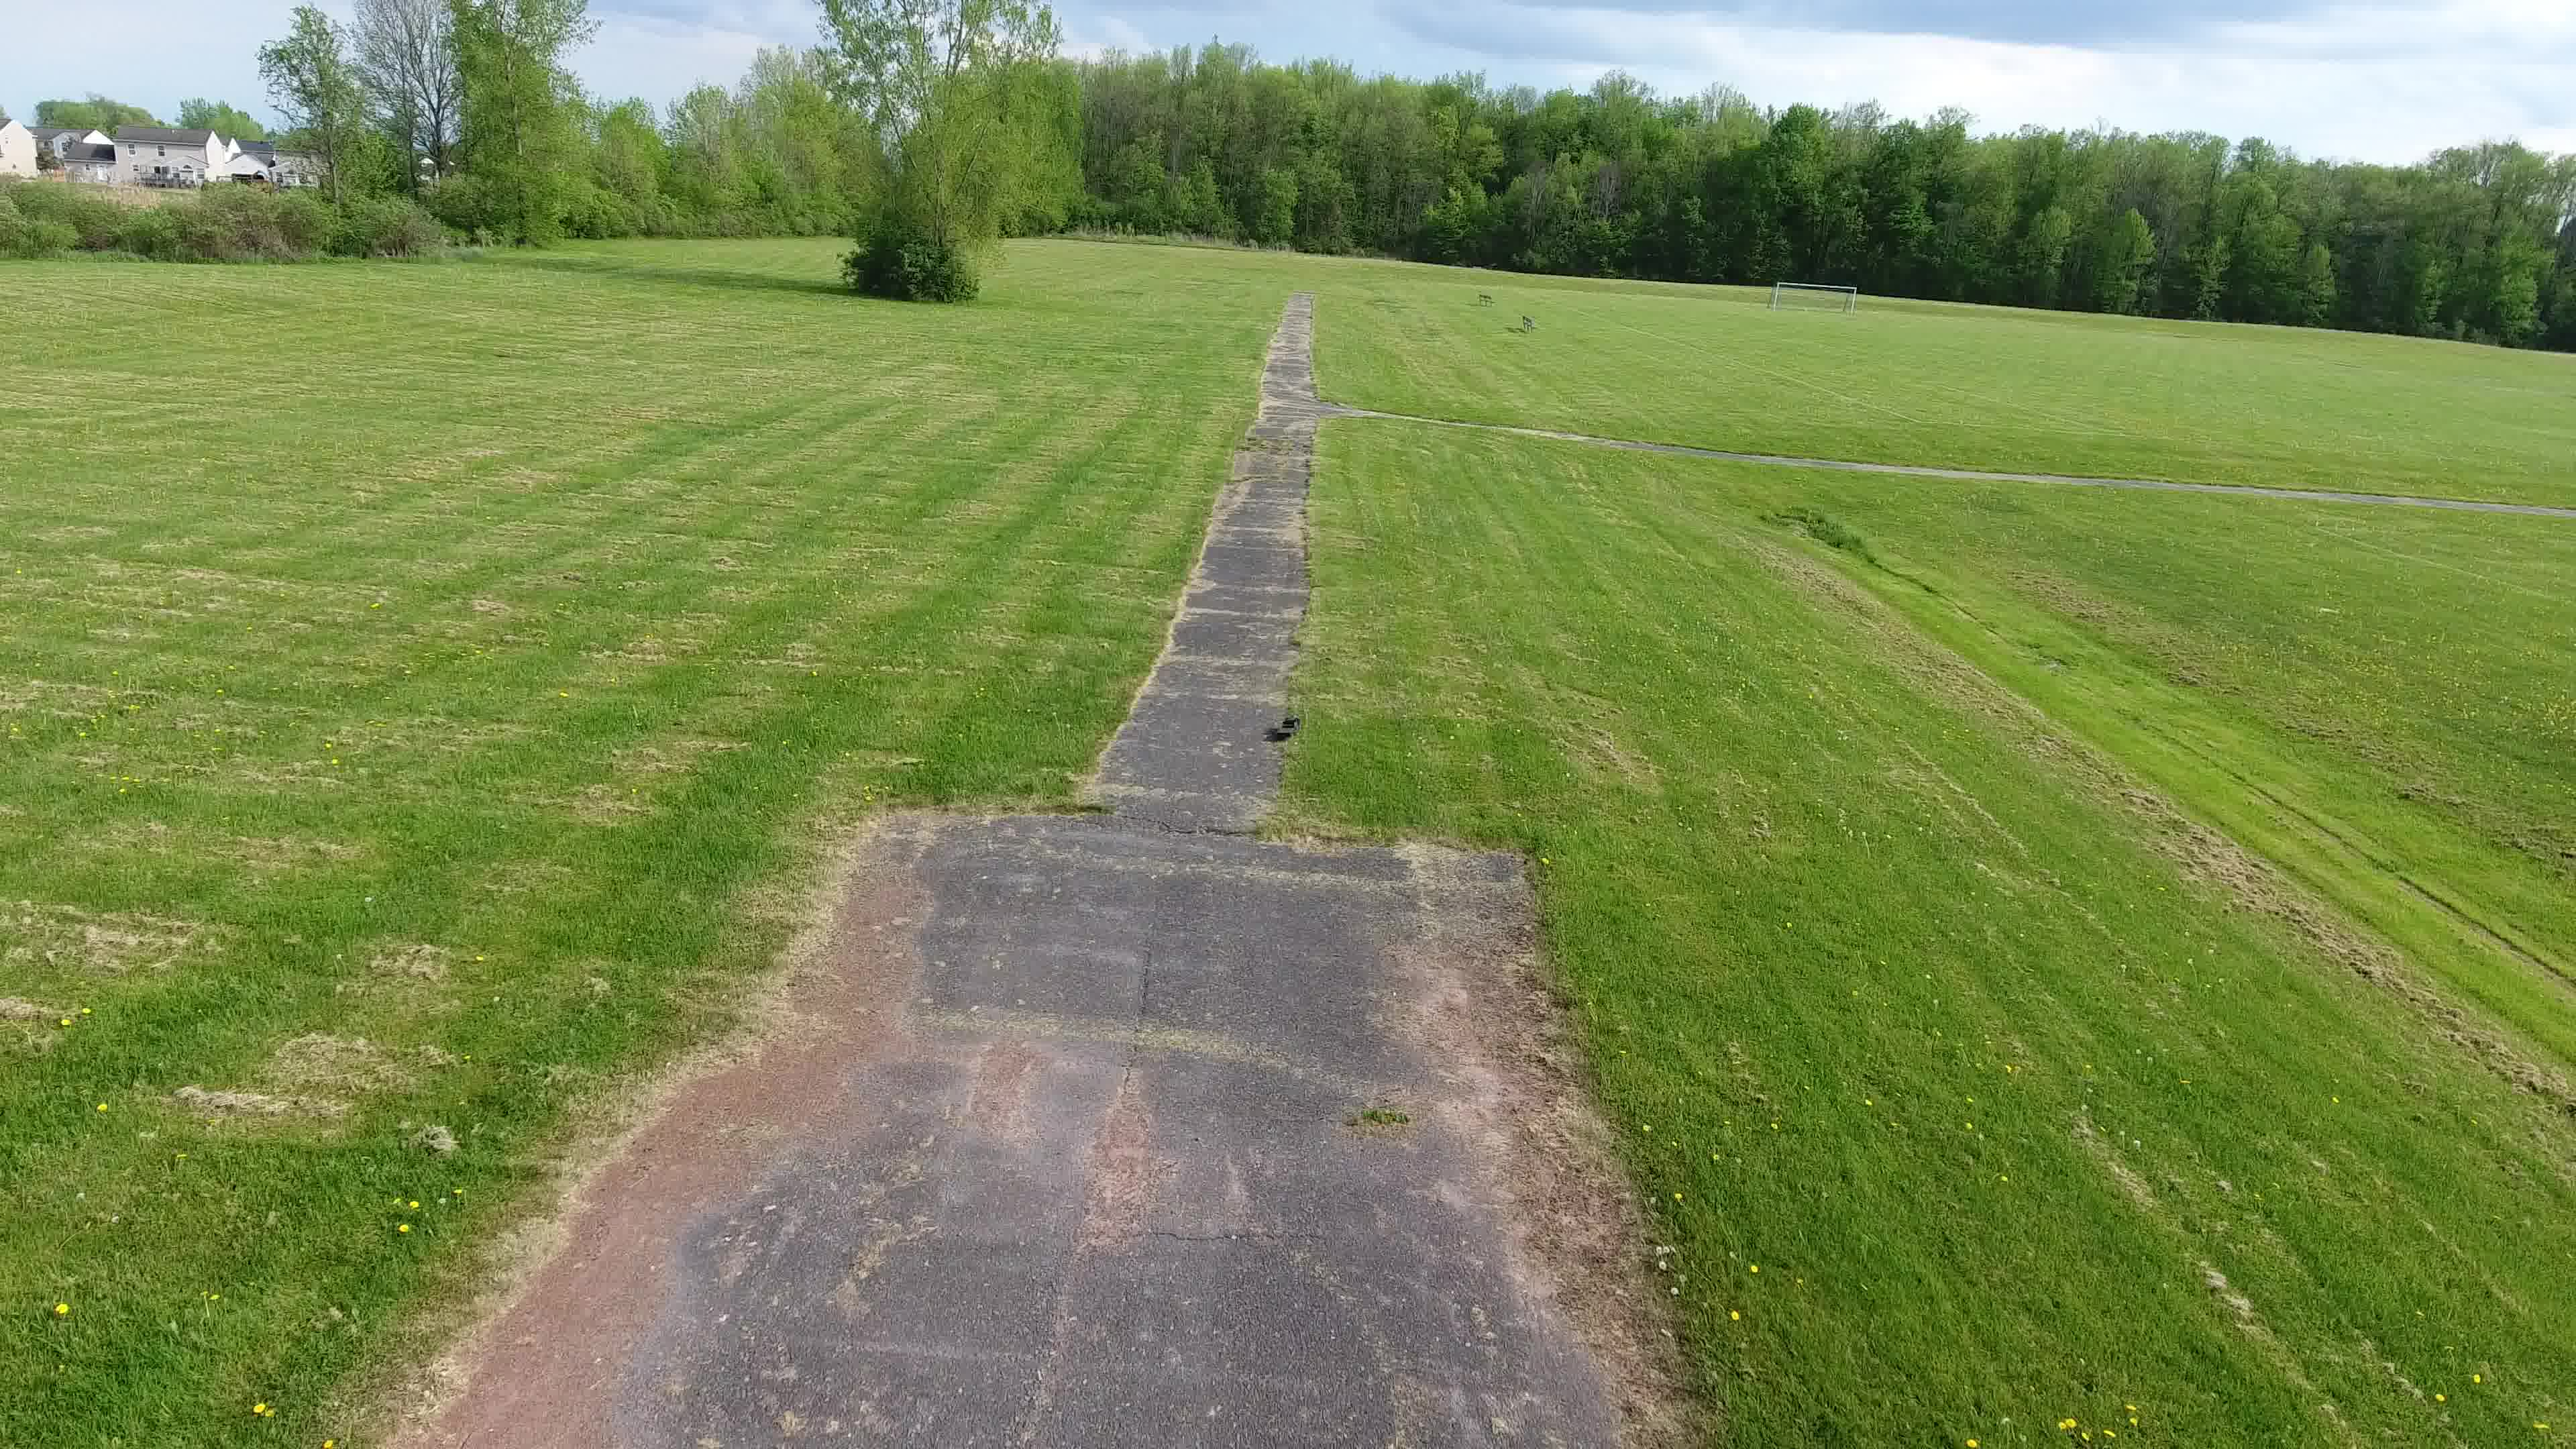transporter9_camo: (1269, 717, 1302, 741)
